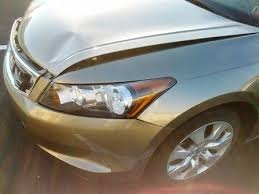Dent: (66, 131, 149, 177), (37, 29, 92, 76)
Smashed: (57, 29, 254, 78)
